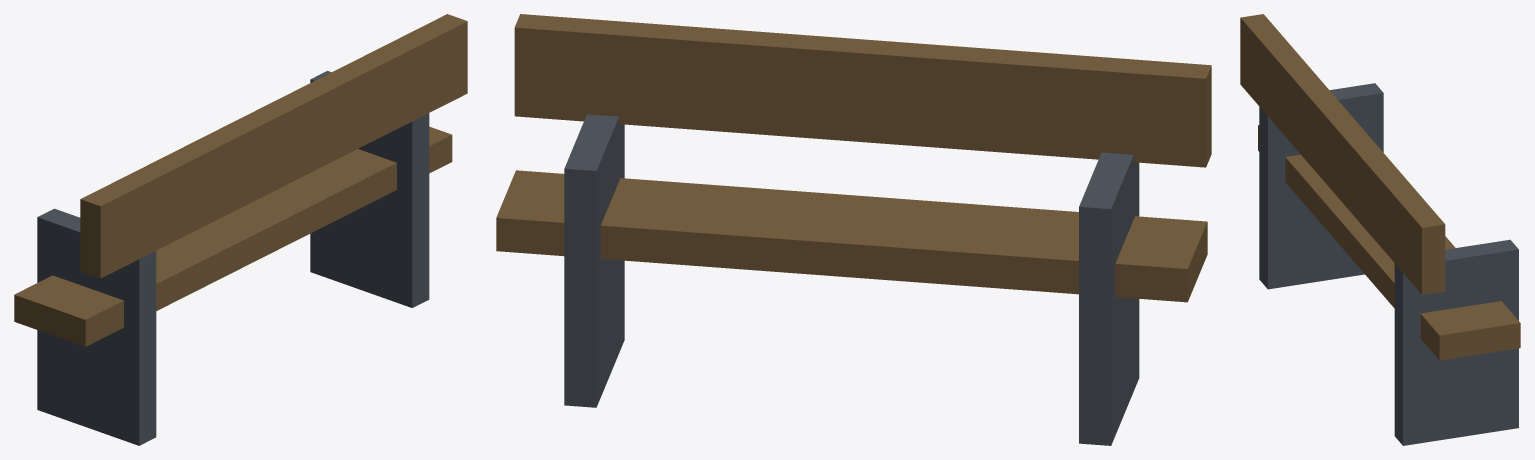
The model's file is cell-180_450.glb.
3 renders of one model, left to right at view 1: azimuth 30°, elevation 25°; view 2: azimuth 150°, elevation 25°; view 3: azimuth 270°, elevation 25°, orthographic. The views are drawn at different scales.
Visible parts, largest first — view 1: cell-180_450; view 2: cell-180_450; view 3: cell-180_450.
Part boxes in pixels (x1,y1,x2,y2): cell-180_450: (14,14,467,445); cell-180_450: (496,14,1211,445); cell-180_450: (1240,14,1520,445).
Bounding box in the file's own units: 0.8661 × 0.43 × 0.4546.
